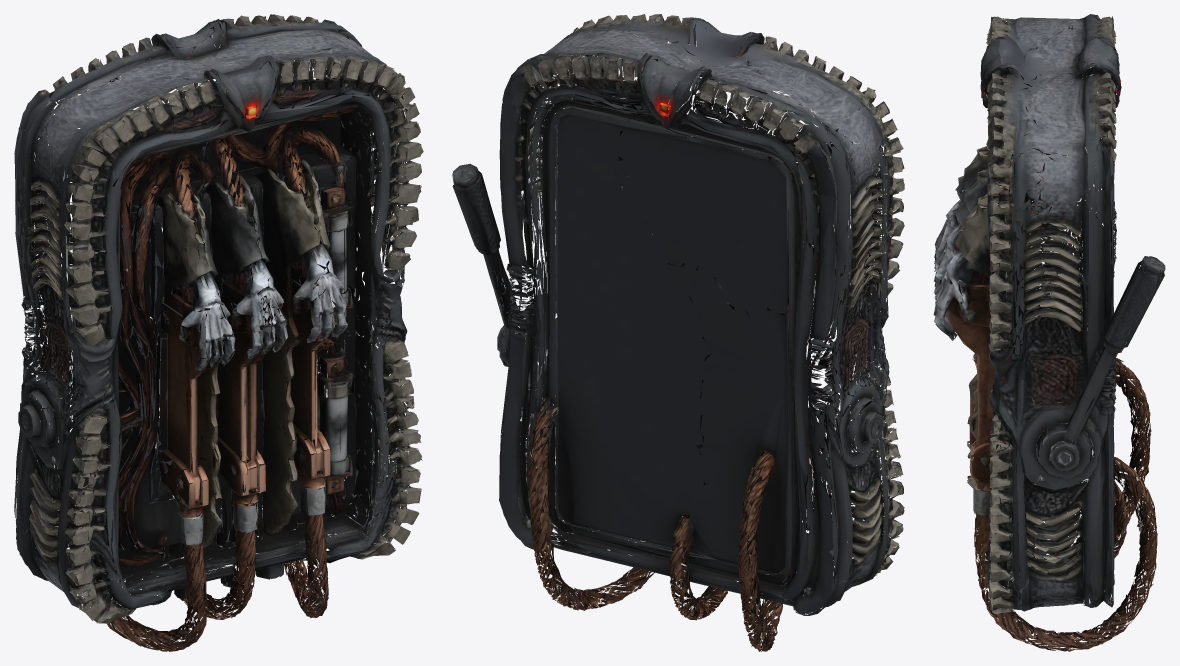
Rendered from substation_breaker_interlock.glb.
The picture shows the model from 3 angles, left to right: view 1: azimuth 30°, elevation 25°; view 2: azimuth 150°, elevation 25°; view 3: azimuth 270°, elevation 25°; orthographic projection. The views are drawn at different scales.
Parts seen in each view (by area): view 1: node_0; view 2: node_0; view 3: node_0.
Part boxes in pixels (<box>): node_0: <box>14,14,423,651</box>; node_0: <box>452,14,904,651</box>; node_0: <box>933,14,1165,651</box>.
Size of the model in its own units: 0.7705 by 1.14 by 0.4299.
1 material, 1 textured.
